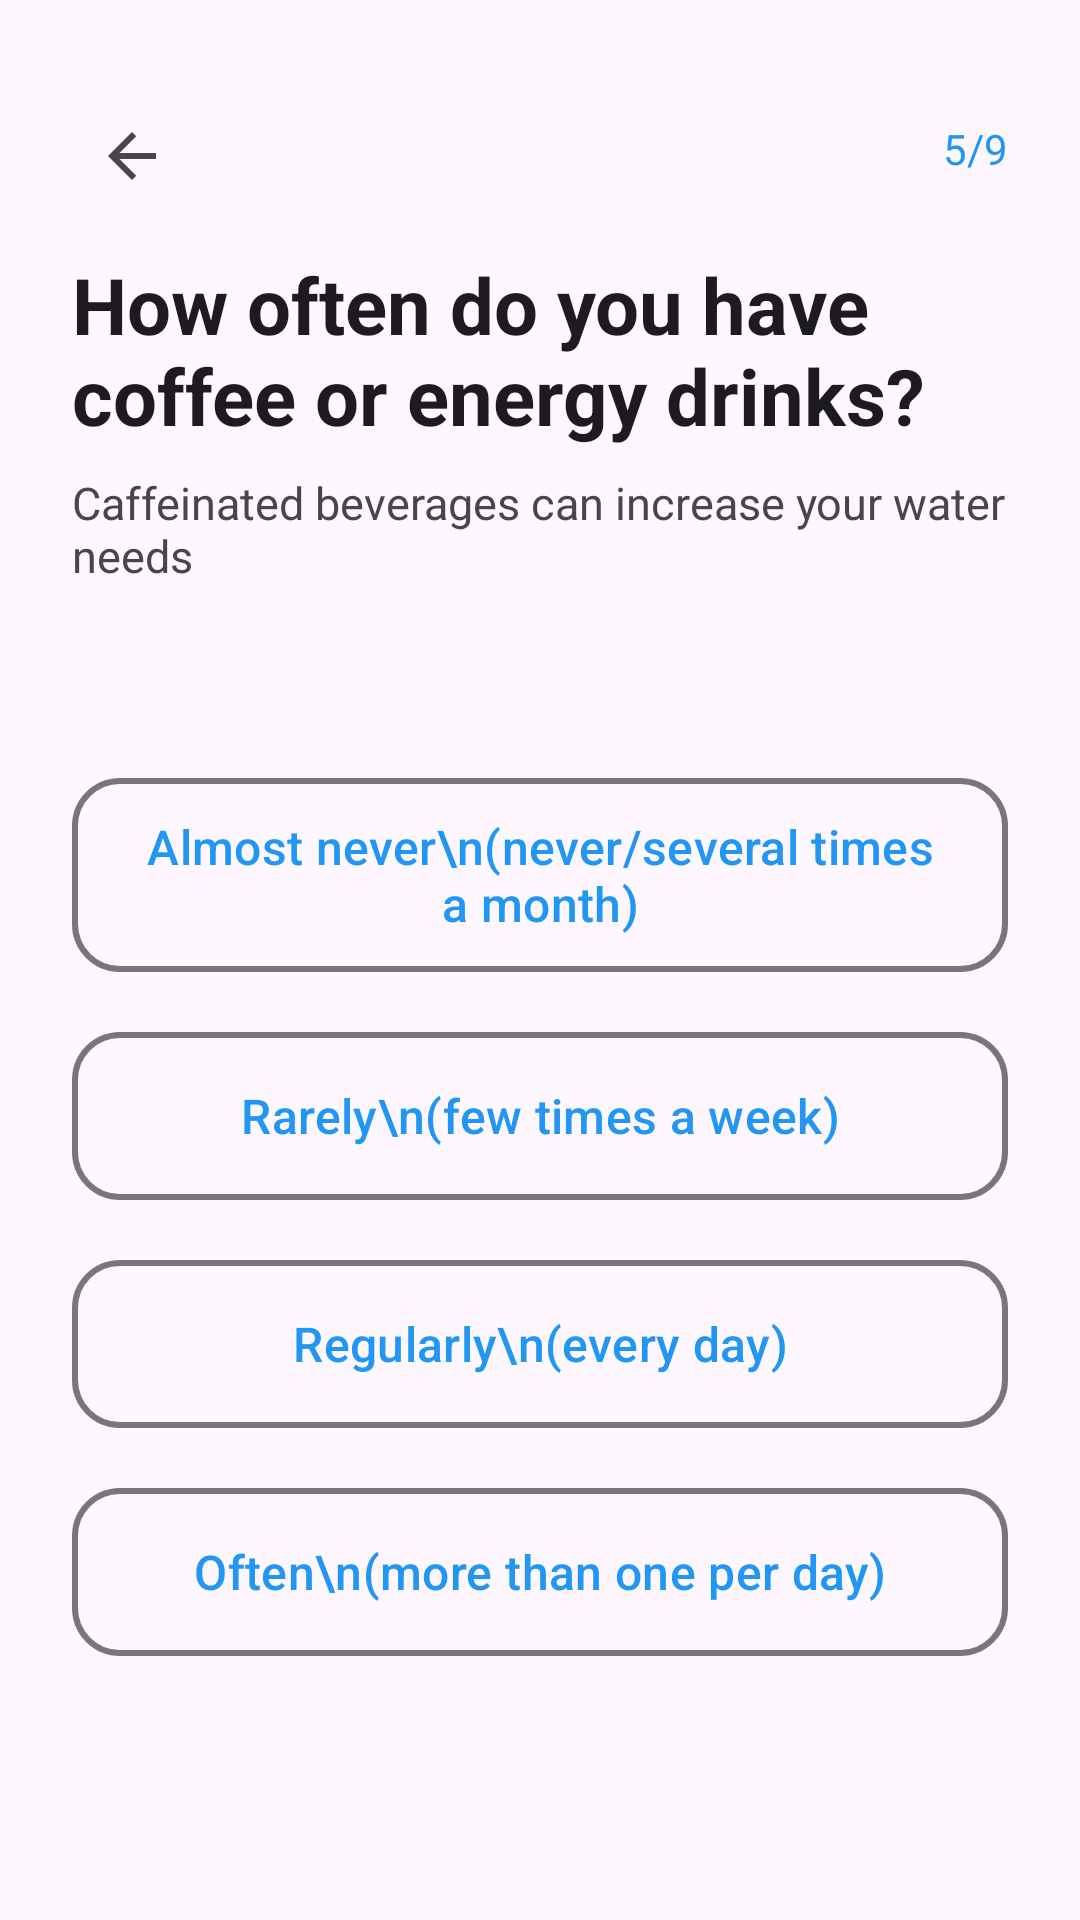

Screen size 1080px x 1920px. Icon name, then its center in pixels as [x,y]:
Go back: [132,156]
